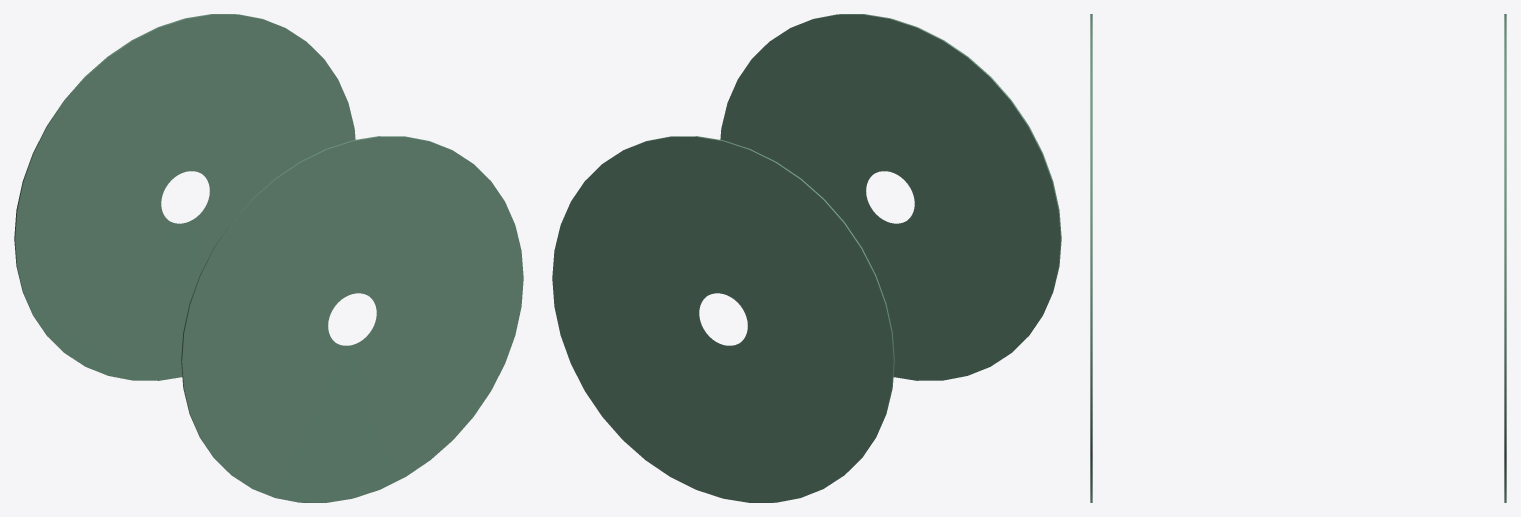
The model's file is chadburnglass.obj.
3 views of the same model, side by side, from view 1: azimuth 30°, elevation 25°; view 2: azimuth 150°, elevation 25°; view 3: azimuth 270°, elevation 25° (orthographic). The views are drawn at different scales.
Bounding box in the file's own units: 0.238 × 0.238 × 0.2025.
